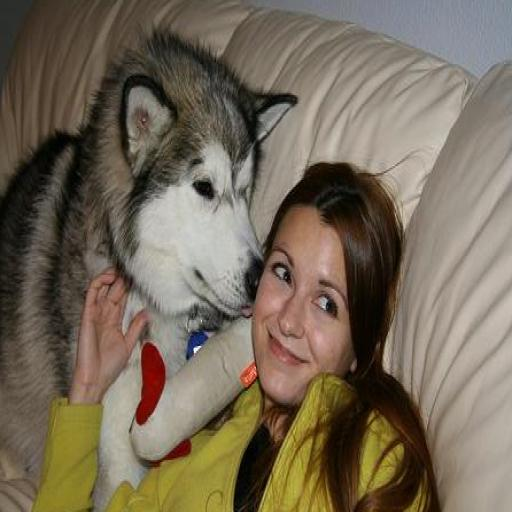dog_face: (108, 55, 275, 322)
